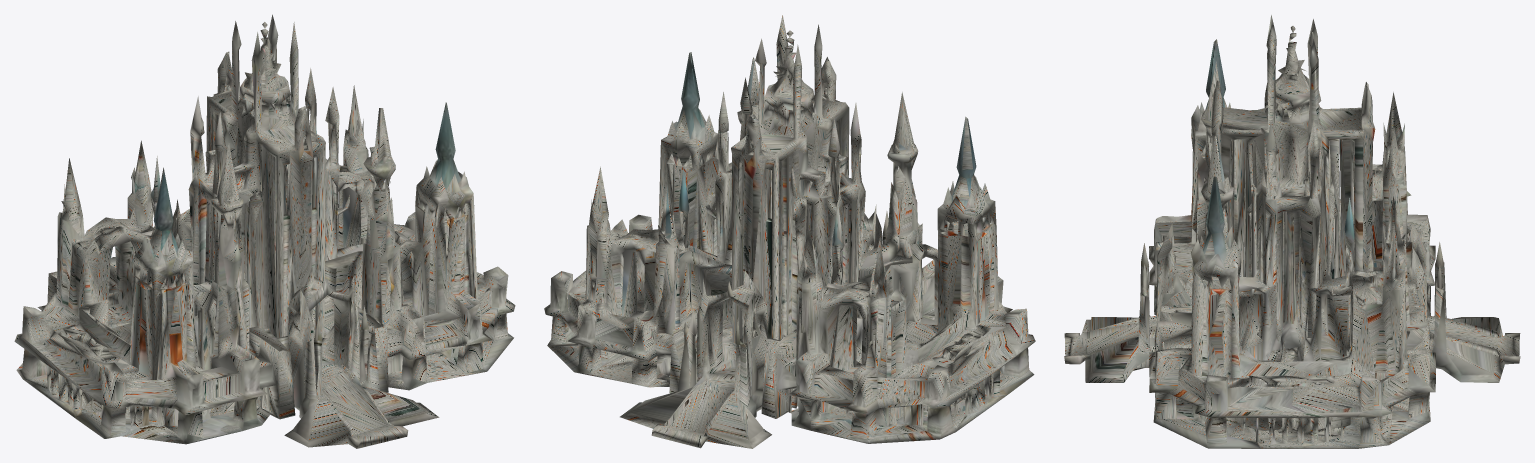
File: A_massive_tall_scie_3.glb
The picture shows the model from 3 angles, left to right: view 1: azimuth 30°, elevation 25°; view 2: azimuth 150°, elevation 25°; view 3: azimuth 270°, elevation 25°; orthographic projection. The views are drawn at different scales.
Visible parts, largest first — view 1: A_massive_tall_scie_3; view 2: A_massive_tall_scie_3; view 3: A_massive_tall_scie_3.
Part boxes in pixels (x1=…): A_massive_tall_scie_3: x1=14, y1=14, x2=515, y2=448; A_massive_tall_scie_3: x1=544, y1=15, x2=1035, y2=448; A_massive_tall_scie_3: x1=1064, y1=15, x2=1520, y2=448.
Size of the model in its own units: 1.9 by 1.49 by 1.87.
1 material, 1 textured.
